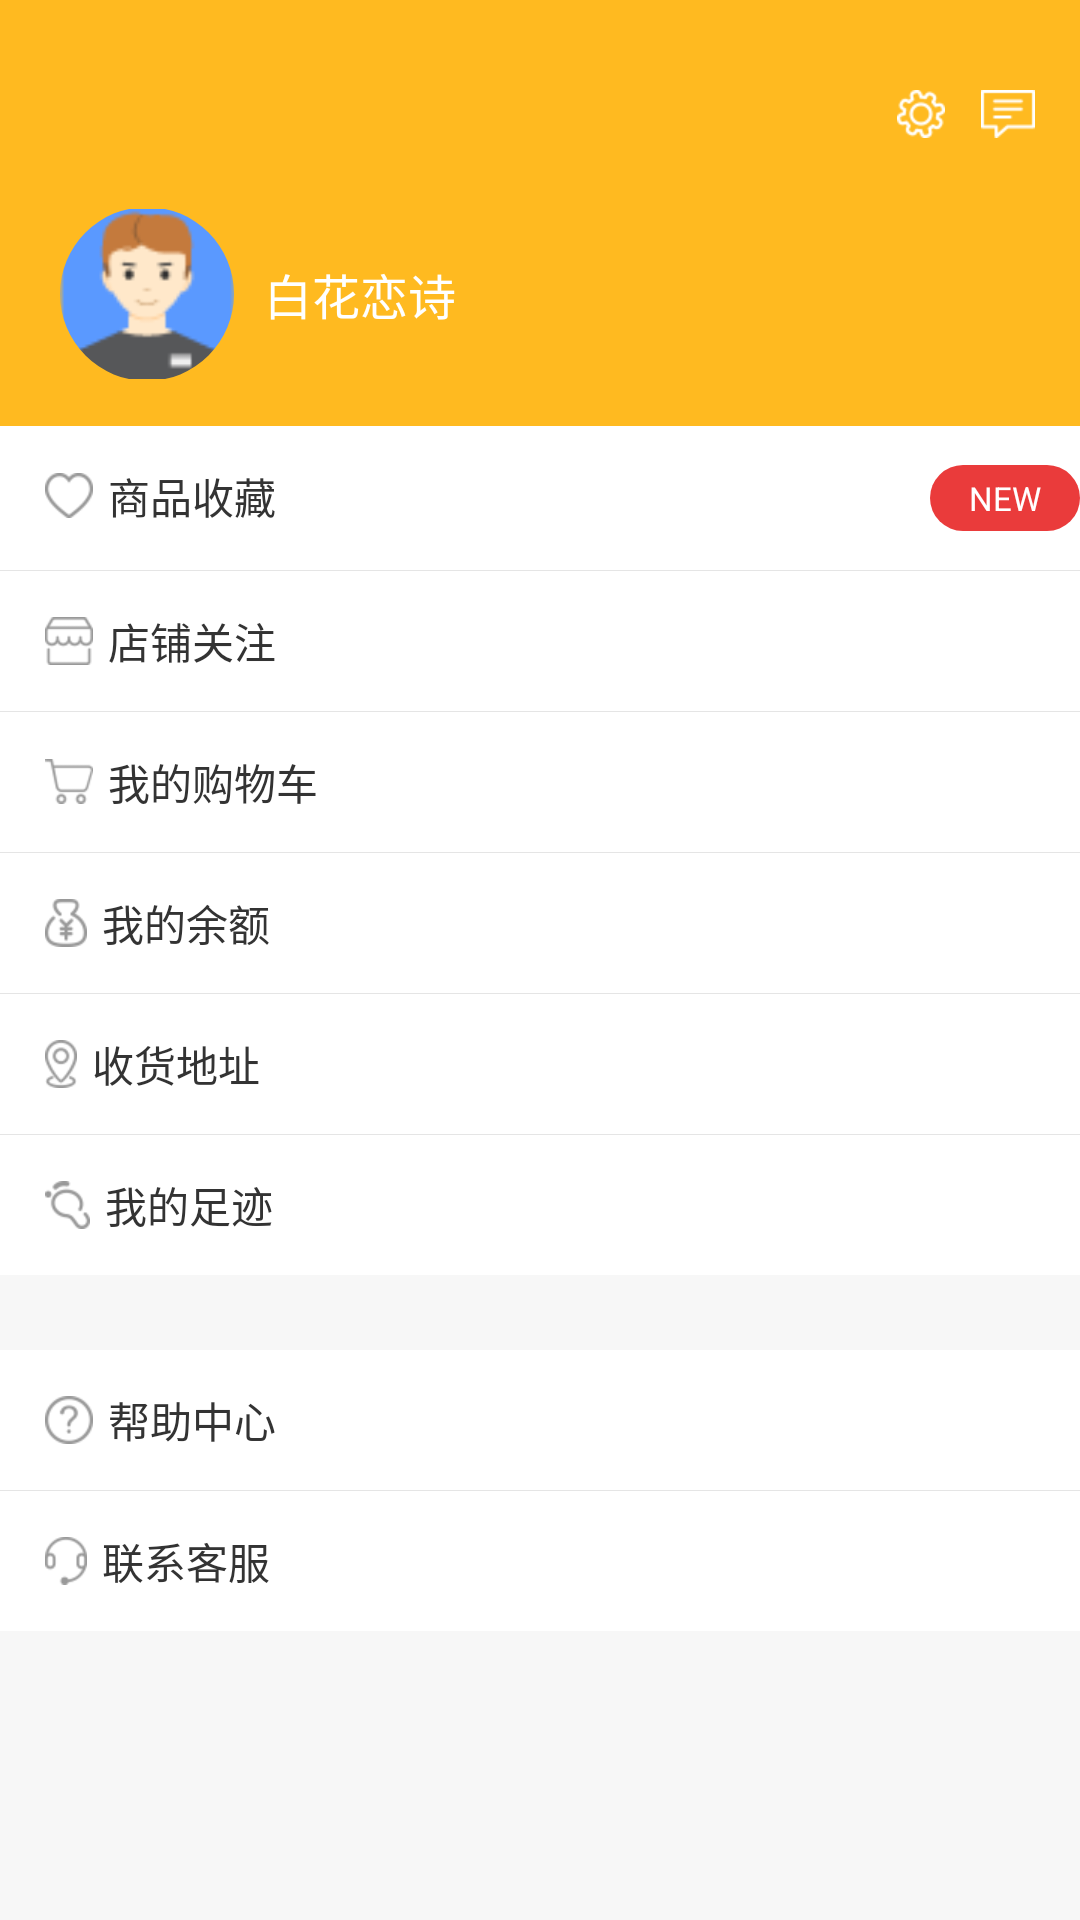

Icon click points for this 1080*1920 phone screenshot, format (x=x, y=y):
massage: (x=1008, y=114)
setting: (x=921, y=114)
